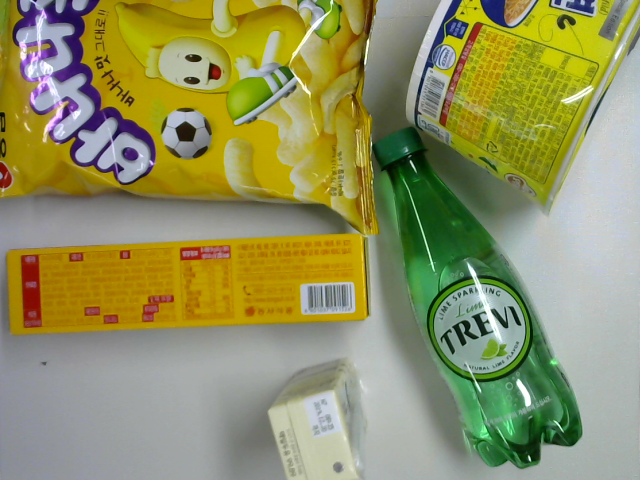99.89_Soymilk: (265, 354, 369, 480)
Banana_Kick: (1, 1, 379, 237)
Jinlamyeon_Mild_Taste_Large_Cup: (402, 1, 640, 220)
Ritz_Sand_Cracker: (5, 229, 374, 337)
Treviraim_500ml: (371, 124, 586, 471)
